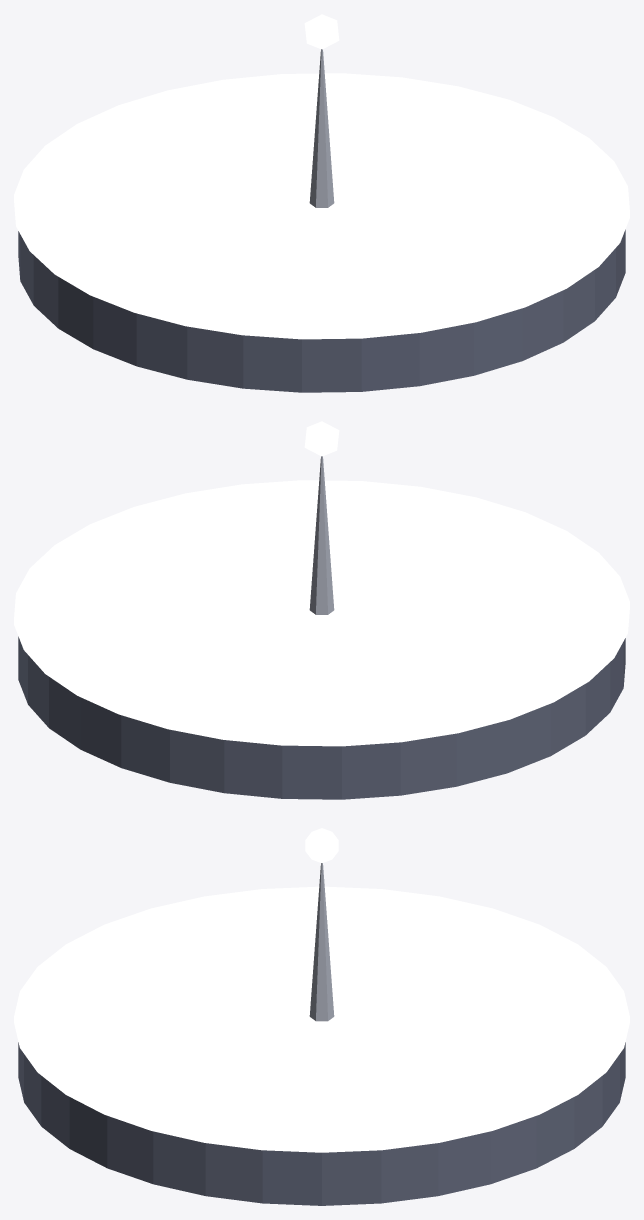
Rendered from tower_round.glb.
3 renders of one model, top to bottom at view 1: azimuth 30°, elevation 25°; view 2: azimuth 150°, elevation 25°; view 3: azimuth 270°, elevation 25°, orthographic.
Parts seen in each view (by area): view 1: PodiumGlow, PodiumBase, Antenna, Beacon; view 2: PodiumGlow, PodiumBase, Antenna, Beacon; view 3: PodiumGlow, PodiumBase, Antenna, Beacon.
Boxes of the visible parts, box(x1,y1,x2,y2) form: PodiumGlow: box(14, 73, 629, 339); PodiumBase: box(18, 229, 625, 392); Antenna: box(309, 49, 334, 207); Beacon: box(304, 14, 339, 49); PodiumGlow: box(14, 480, 629, 746); PodiumBase: box(18, 636, 625, 799); Antenna: box(309, 456, 334, 614); Beacon: box(304, 421, 339, 456); PodiumGlow: box(14, 886, 629, 1152); PodiumBase: box(18, 1042, 625, 1205); Antenna: box(309, 863, 334, 1021); Beacon: box(305, 828, 338, 862).
Size of the model in its own units: 28.4 by 12.7 by 28.4.
